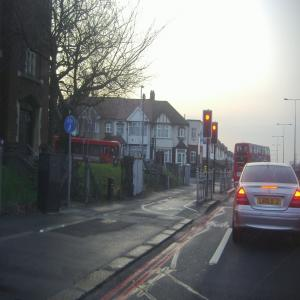Vehicle-registration-plate: (257, 198, 283, 208)
